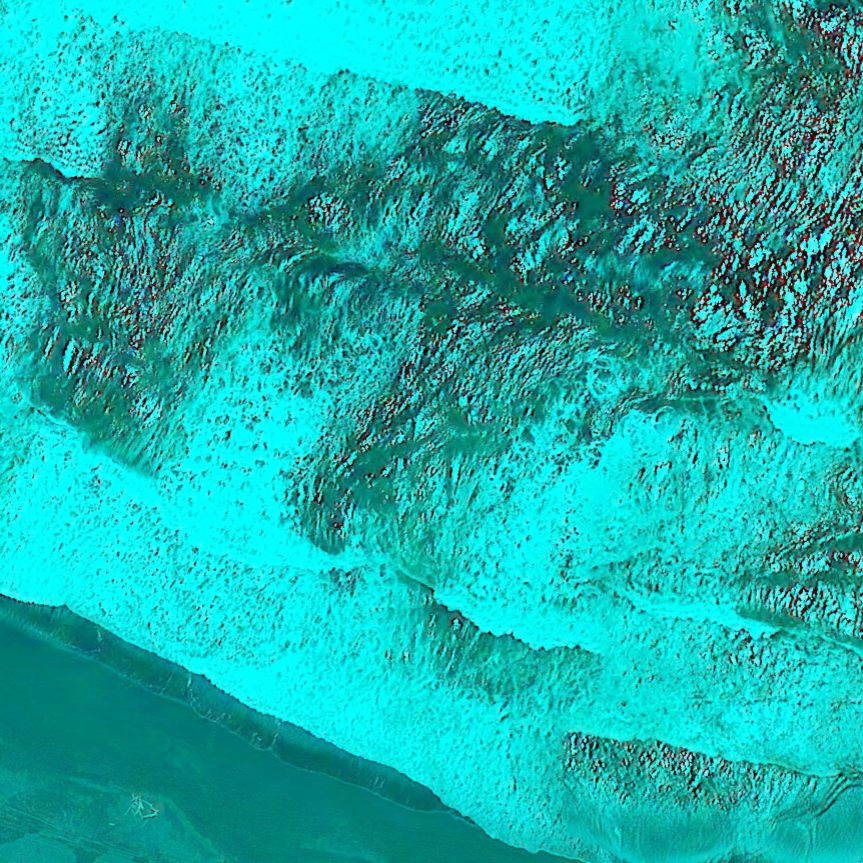rip_current: (284, 127, 632, 608)
